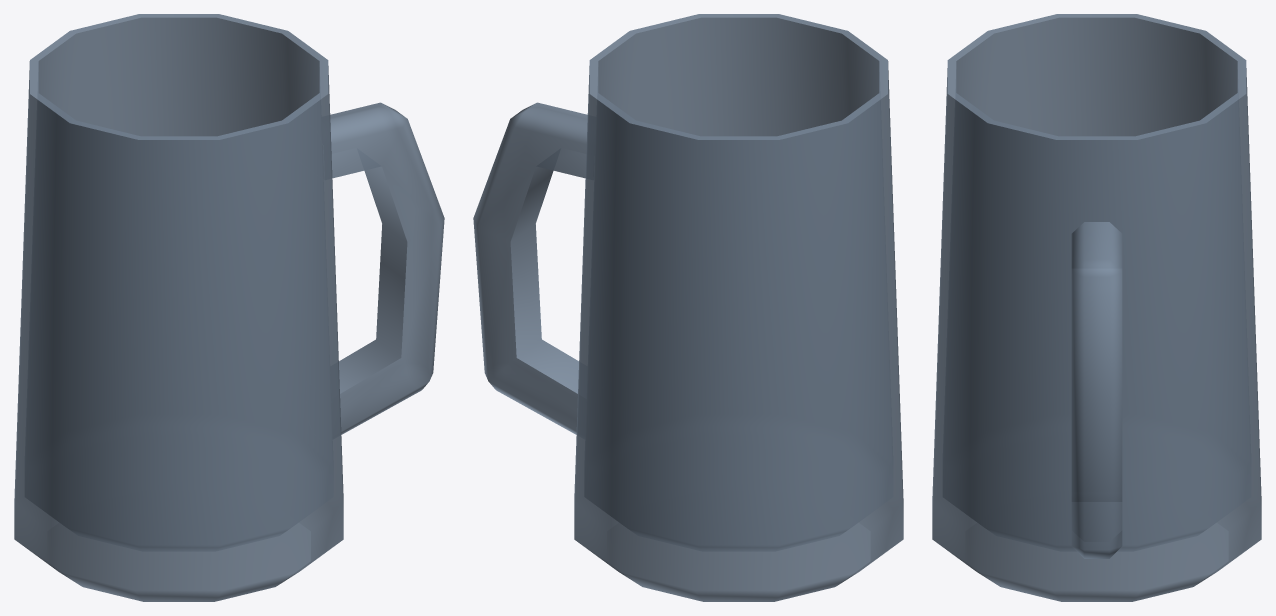
The model's file is mesh_glass_06.fbx.
3 views of the same model, side by side, from view 1: azimuth 30°, elevation 25°; view 2: azimuth 150°, elevation 25°; view 3: azimuth 270°, elevation 25° (orthographic).
Parts seen in each view (by area): view 1: mesh_glass_06; view 2: mesh_glass_06; view 3: mesh_glass_06.
Boxes of the visible parts, <box> form: mesh_glass_06: <box>14,14,444,601</box>; mesh_glass_06: <box>473,14,903,601</box>; mesh_glass_06: <box>932,14,1261,601</box>.
Bounding box in the file's own units: 0.1814 × 0.2024 × 0.1288.
